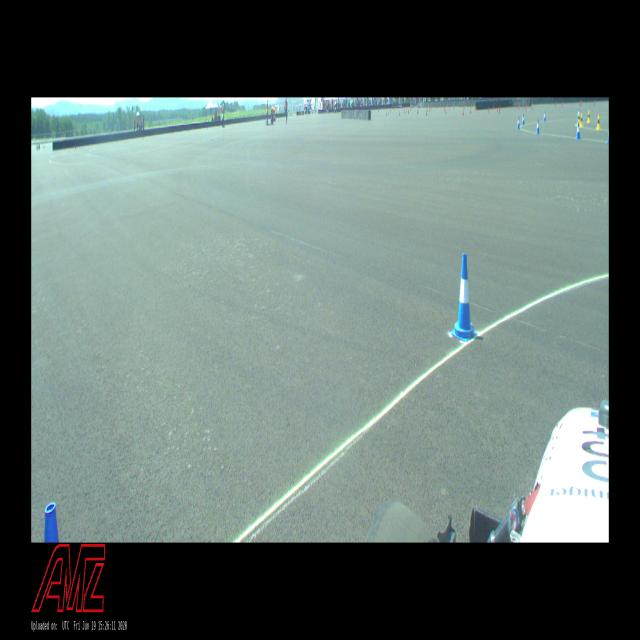blue_cone: (451, 252, 477, 342), (43, 502, 59, 543), (576, 122, 581, 138), (536, 120, 540, 134), (517, 116, 520, 130), (522, 114, 525, 125), (543, 111, 546, 122), (607, 130, 609, 144), (578, 108, 580, 117)
yellow_cone: (596, 115, 600, 129), (587, 110, 590, 122), (580, 114, 583, 126), (578, 113, 580, 123)
